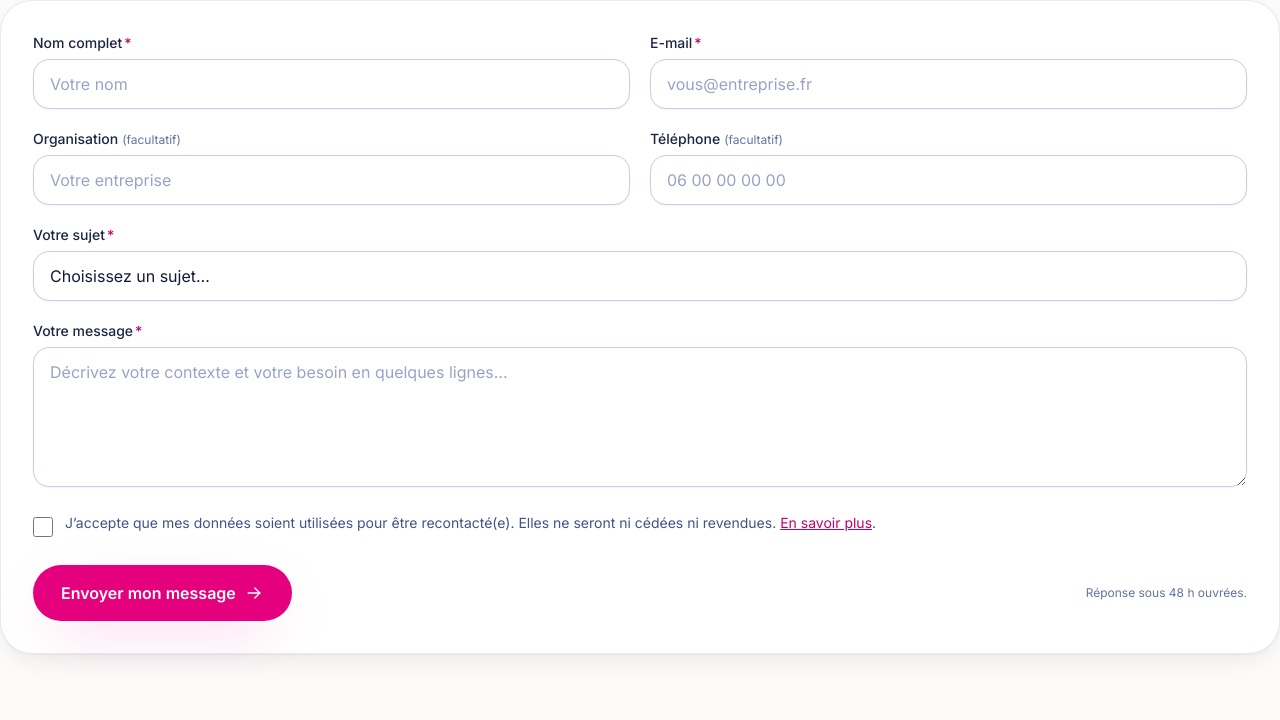
Test: ContactForm › envoie les données et affiche la confirmation en cas de succès
In the field labelled "Nom complet*": (332, 84) [33,59,630,109], type "Marie Dupont"
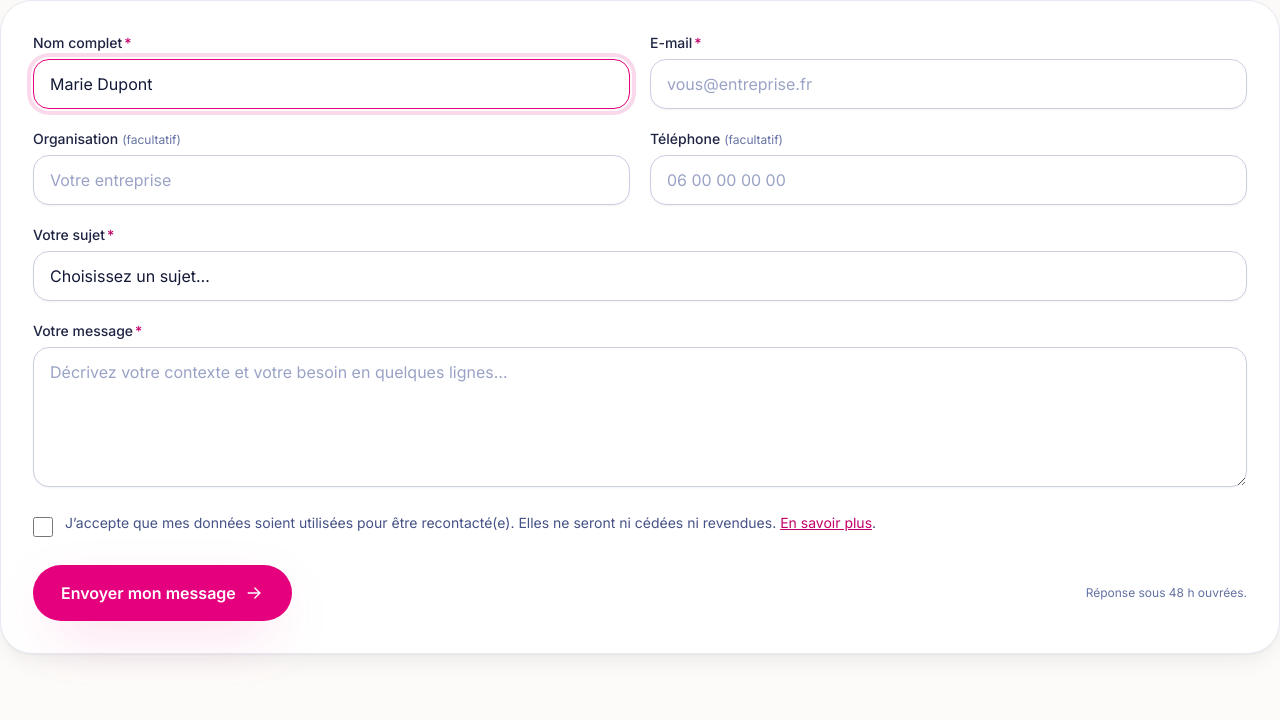
In the field labelled "E-mail*": (948, 84) [650,59,1247,109], type "marie@example.com"
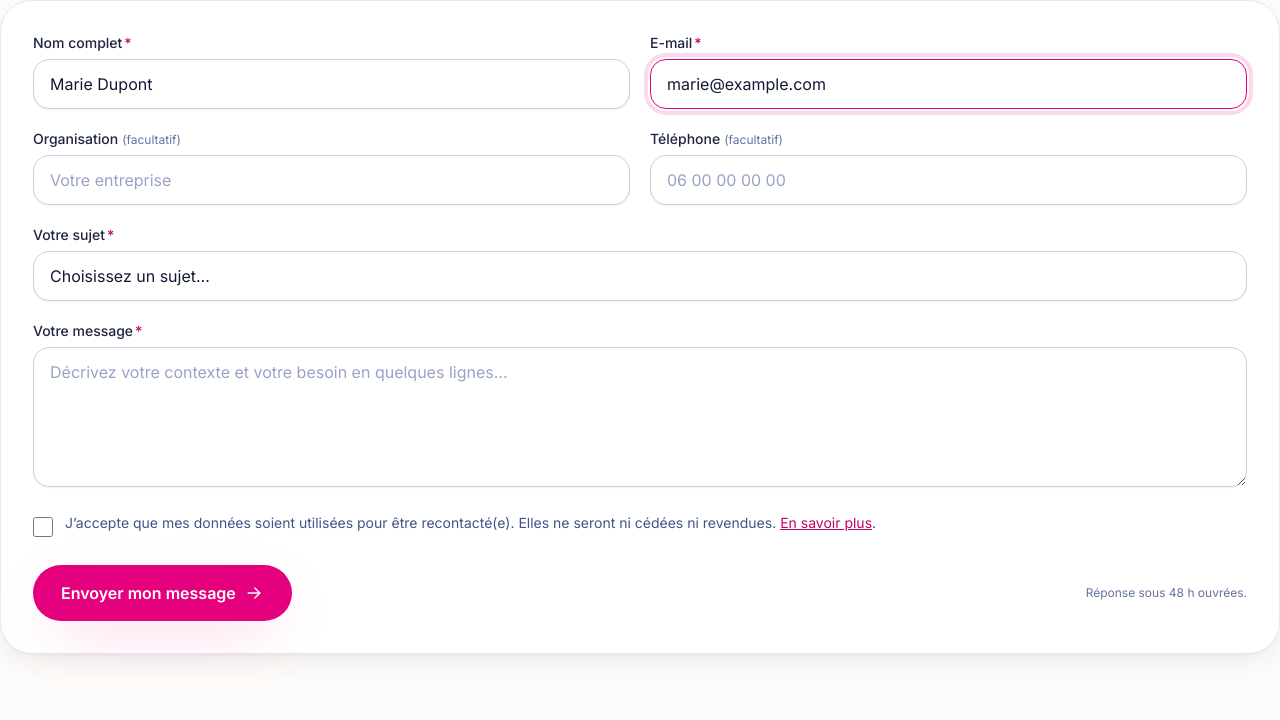
Select "Management & leadership" in the dropdown labelled "Votre sujet*": (640, 276) [33,251,1247,301]
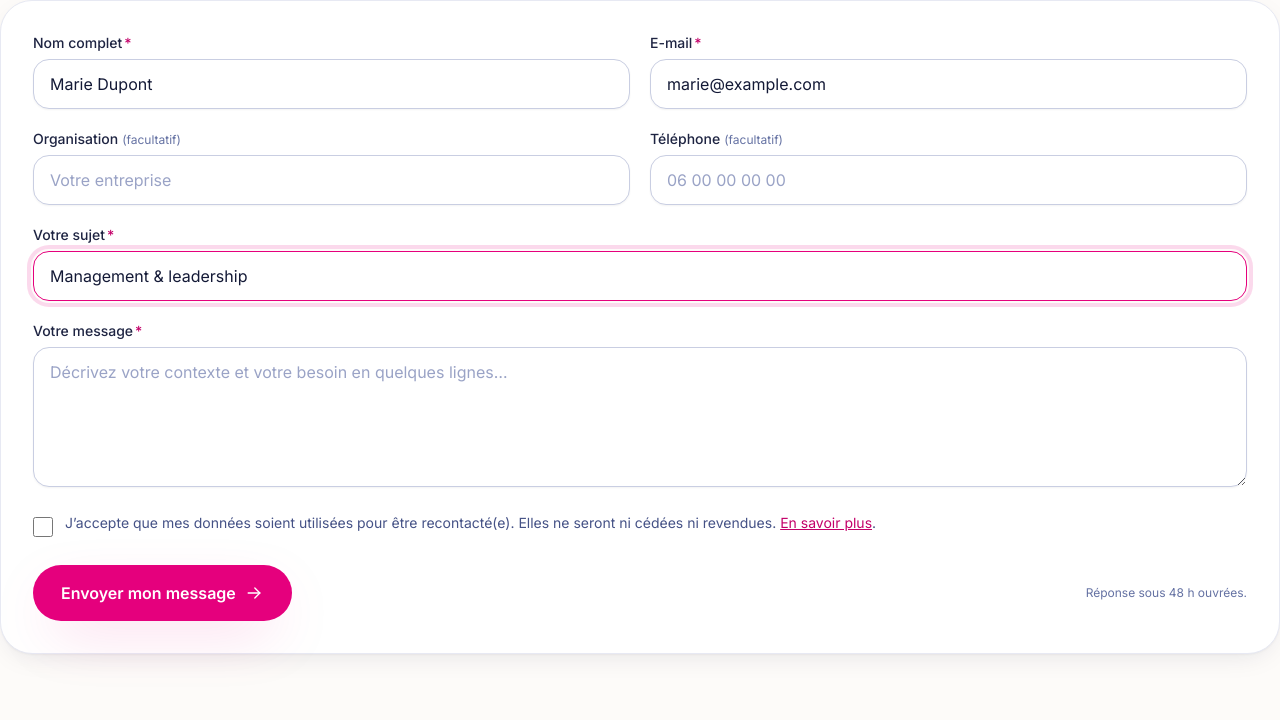
In the text box labelled "Votre message*": (640, 417) [33,347,1247,487], type "Bonjour, je souhaite un accompagnement pour mes managers."
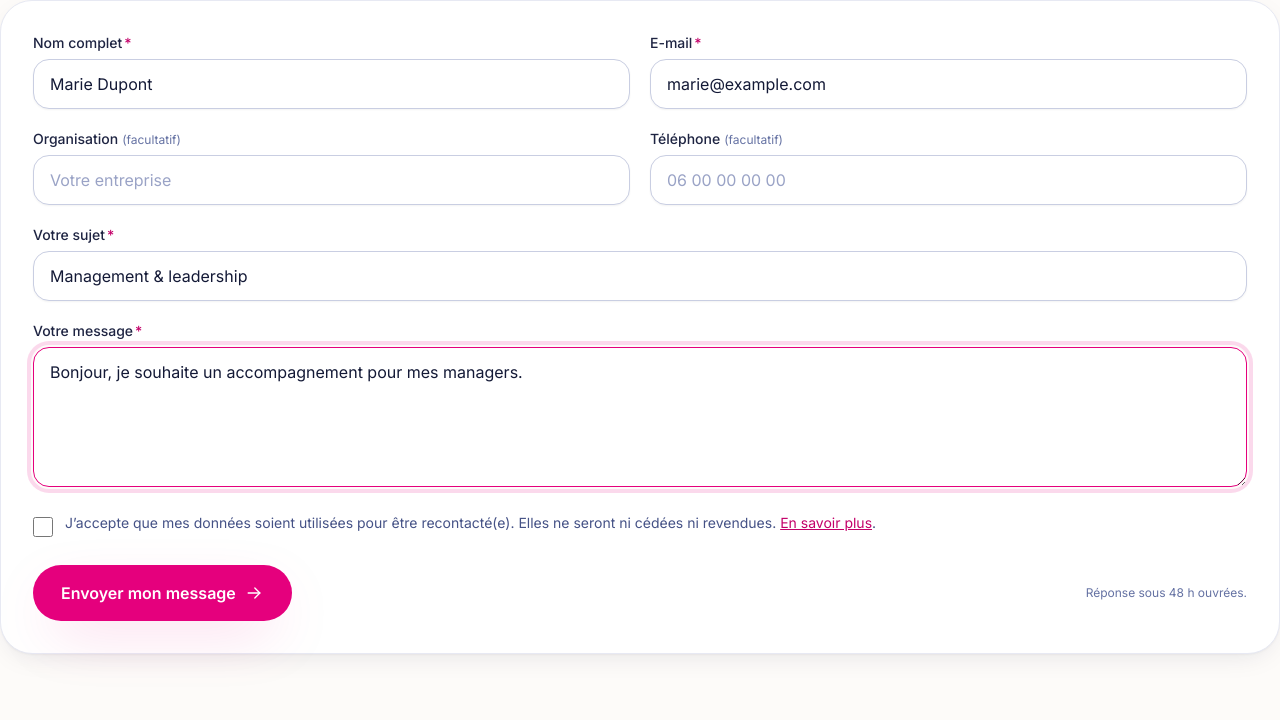
Click the checkbox labelled "J’accepte que mes données": (43, 527) [33,517,53,537]
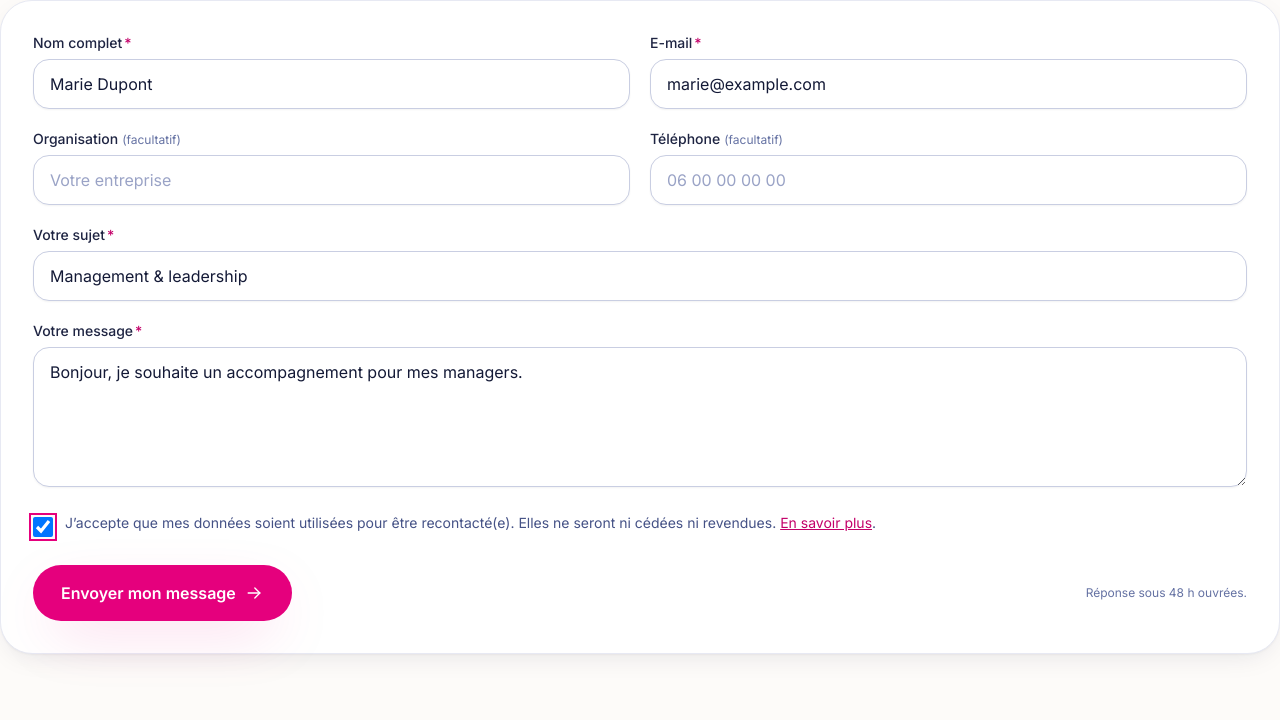
Click the button "Envoyer mon message": (162, 593) [33,565,292,621]
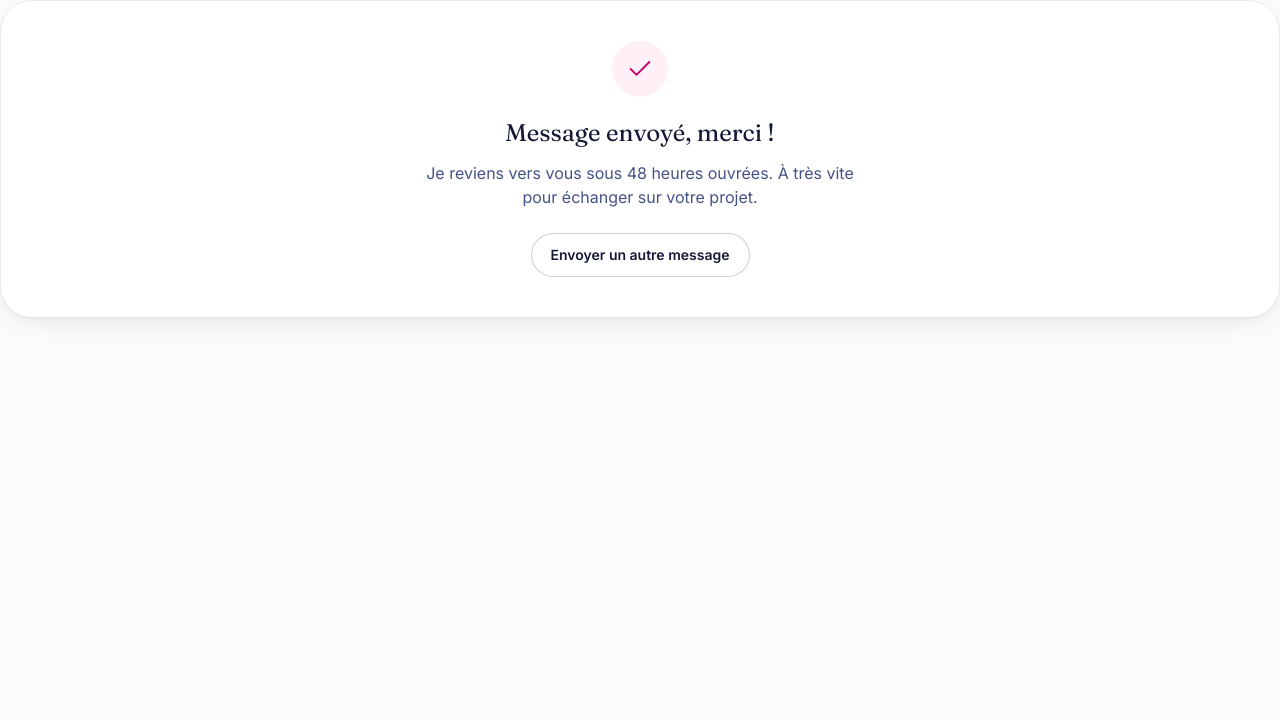
expect the heading "Message envoyé, merci !" is shown: met, box [505,117,775,149]
